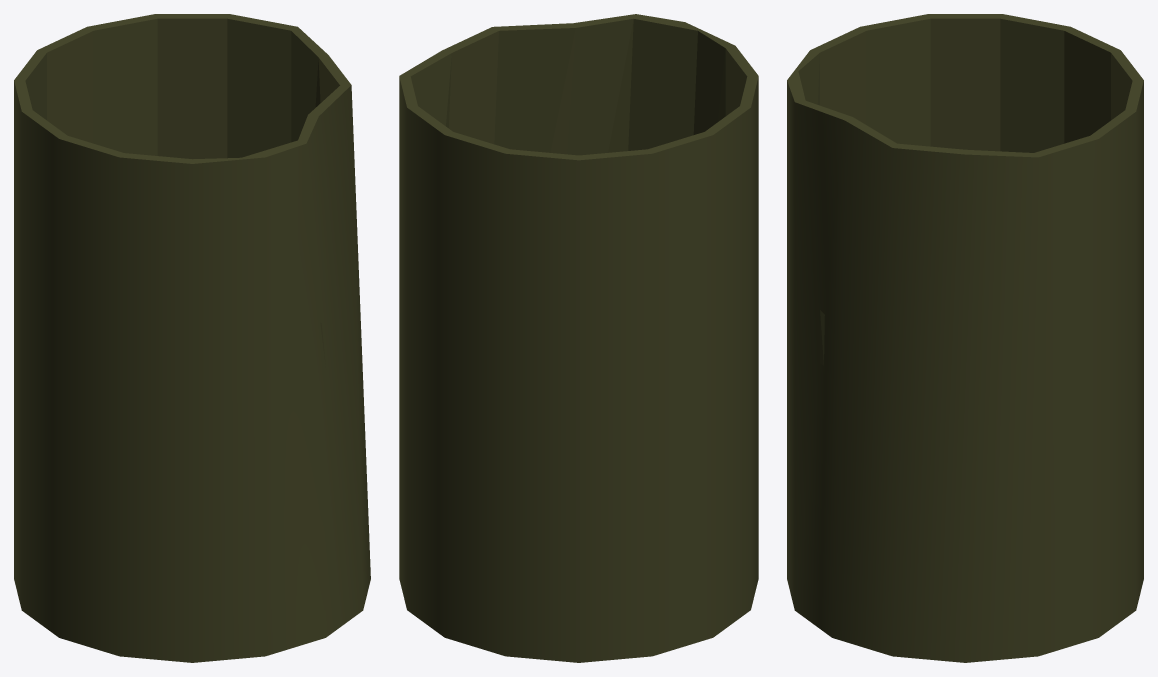
Rendered from barrel01.FBX.
3 renders of one model, left to right at view 1: azimuth 30°, elevation 25°; view 2: azimuth 150°, elevation 25°; view 3: azimuth 270°, elevation 25°, orthographic.
Visible parts, largest first — view 1: Cylinder001; view 2: Cylinder001; view 3: Cylinder001.
Part boxes in pixels (x1,y1,x2,y2): Cylinder001: (14, 14, 370, 662); Cylinder001: (399, 14, 758, 662); Cylinder001: (787, 14, 1143, 662).
Bounding box in the file's own units: 0.7691 × 1.19 × 0.7733.
